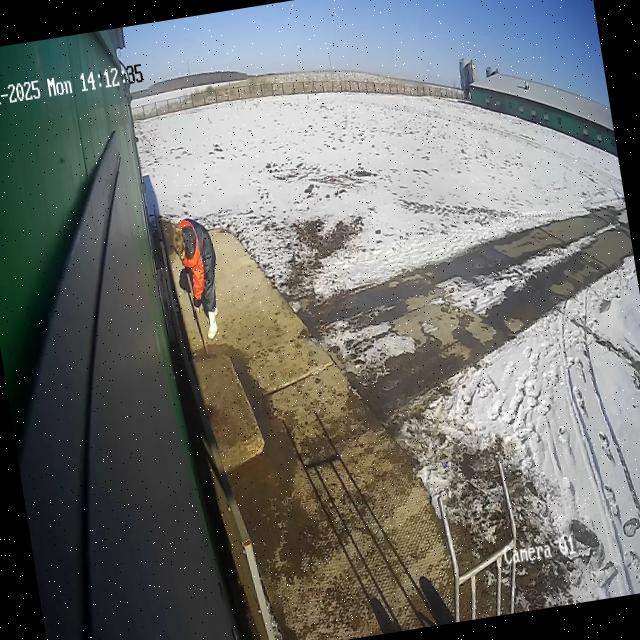Red uniform: (168, 212, 230, 346)
